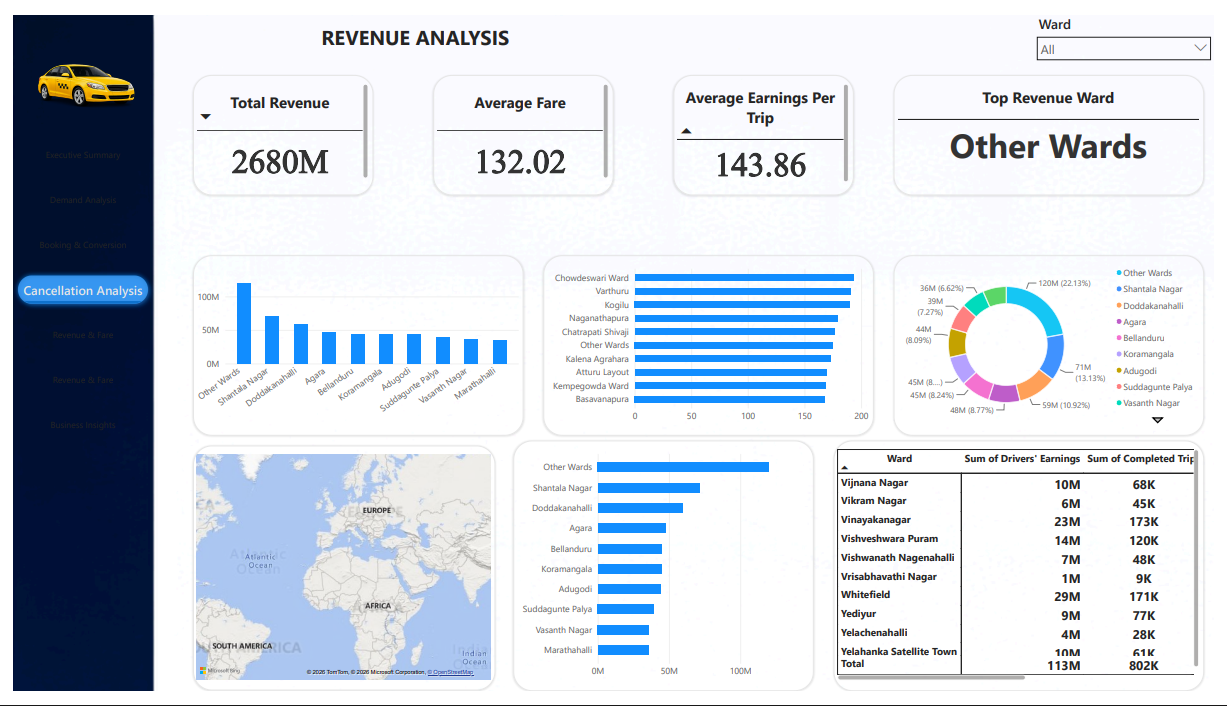

Layout of this report page (visuals, bound fields, positions):
{"tool":"powerbi","page":{"name":" Cancellation Analysis","canvas":[1920,1080],"ordinal":3},"visuals":[{"type":"tableEx","fields":{"Values":["cleaned_driver_data.Total Revenue"]},"box":[288,96,288,192],"z":0},{"type":"textbox","box":[224,0,832,96],"z":1000},{"type":"tableEx","fields":{"Values":["cleaned_driver_data.Top Revenue Ward"]},"box":[1408,96,496,192],"z":2000},{"type":"tableEx","fields":{"Values":["cleaned_driver_data.Average Fare"]},"box":[672,96,288,192],"z":3000},{"type":"tableEx","fields":{"Values":["cleaned_driver_data.Average Earnings Per Trip"]},"box":[1056,96,288,192],"z":4000},{"type":"clusteredColumnChart","fields":{"Category":["cleaned_driver_data.Ward"],"Y":["cleaned_driver_data.Total Revenue"]},"box":[288,384,528,288],"z":5000},{"type":"barChart","fields":{"Category":["cleaned_driver_data.Ward"],"Y":["cleaned_driver_data.Average Fare"]},"box":[848,384,528,288],"z":6000},{"type":"donutChart","fields":{"Category":["cleaned_driver_data.Ward"],"Y":["cleaned_driver_data.Total Revenue"]},"box":[1408,384,496,288],"z":7000},{"type":"filledMap","fields":{"Category":["cleaned_driver_data.Ward"]},"box":[288,688,483,391],"z":8000},{"type":"barChart","fields":{"Category":["cleaned_driver_data.Ward"],"Y":["cleaned_driver_data.Total Revenue"]},"box":[800,680,480,400],"z":9000},{"type":"pivotTable","fields":{"Rows":["cleaned_driver_data.Ward"],"Values":["Sum(cleaned_driver_data.Drivers' Earnings)","Sum(cleaned_driver_data.Completed Trips)","cleaned_driver_data.Average Fare","cleaned_driver_data.Average Earnings Per Trip"]},"box":[1312,680,592,400],"z":10000},{"type":"slicer","fields":{"Values":["cleaned_driver_data.Ward"]},"box":[1632,0,288,96],"z":11000},{"type":"pageNavigator","box":[0,192,224,496],"z":12000},{"type":"image","box":[0,0,288,192],"z":12001}]}

Visuals, with their boxes on the page's 1920x1080 design canvas (x1, y1, x2, y2). These are canvas units, not pixel positions in the 1227x706 screenshot, which may show the page scaled, cropped or inside an application window:
tableEx - cleaned_driver_data.Total Revenue: BBox(288, 96, 576, 288)
textbox: BBox(224, 0, 1056, 96)
tableEx - cleaned_driver_data.Top Revenue Ward: BBox(1408, 96, 1904, 288)
tableEx - cleaned_driver_data.Average Fare: BBox(672, 96, 960, 288)
tableEx - cleaned_driver_data.Average Earnings Per Trip: BBox(1056, 96, 1344, 288)
clusteredColumnChart - cleaned_driver_data.Ward x cleaned_driver_data.Total Revenue: BBox(288, 384, 816, 672)
barChart - cleaned_driver_data.Ward x cleaned_driver_data.Average Fare: BBox(848, 384, 1376, 672)
donutChart - cleaned_driver_data.Ward x cleaned_driver_data.Total Revenue: BBox(1408, 384, 1904, 672)
filledMap - cleaned_driver_data.Ward: BBox(288, 688, 771, 1079)
barChart - cleaned_driver_data.Ward x cleaned_driver_data.Total Revenue: BBox(800, 680, 1280, 1080)
pivotTable - cleaned_driver_data.Ward x Sum(cleaned_driver_data.Drivers' Earnings): BBox(1312, 680, 1904, 1080)
slicer - cleaned_driver_data.Ward: BBox(1632, 0, 1920, 96)
pageNavigator: BBox(0, 192, 224, 688)
image: BBox(0, 0, 288, 192)
